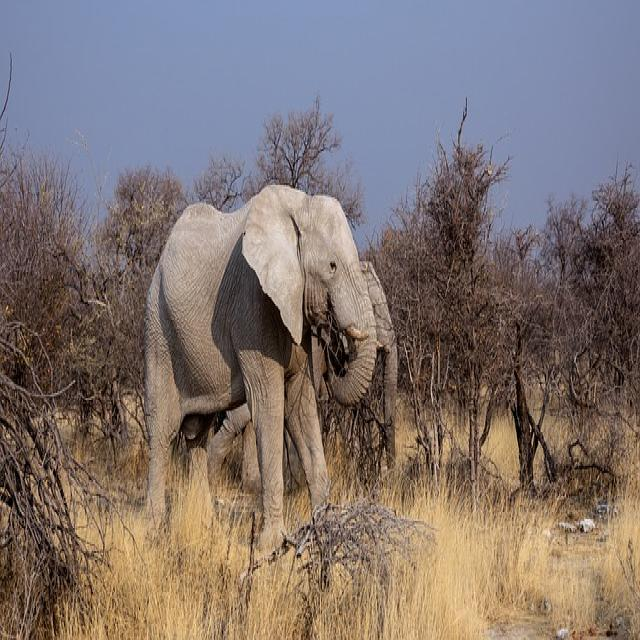elephant: (145, 184, 378, 550)
